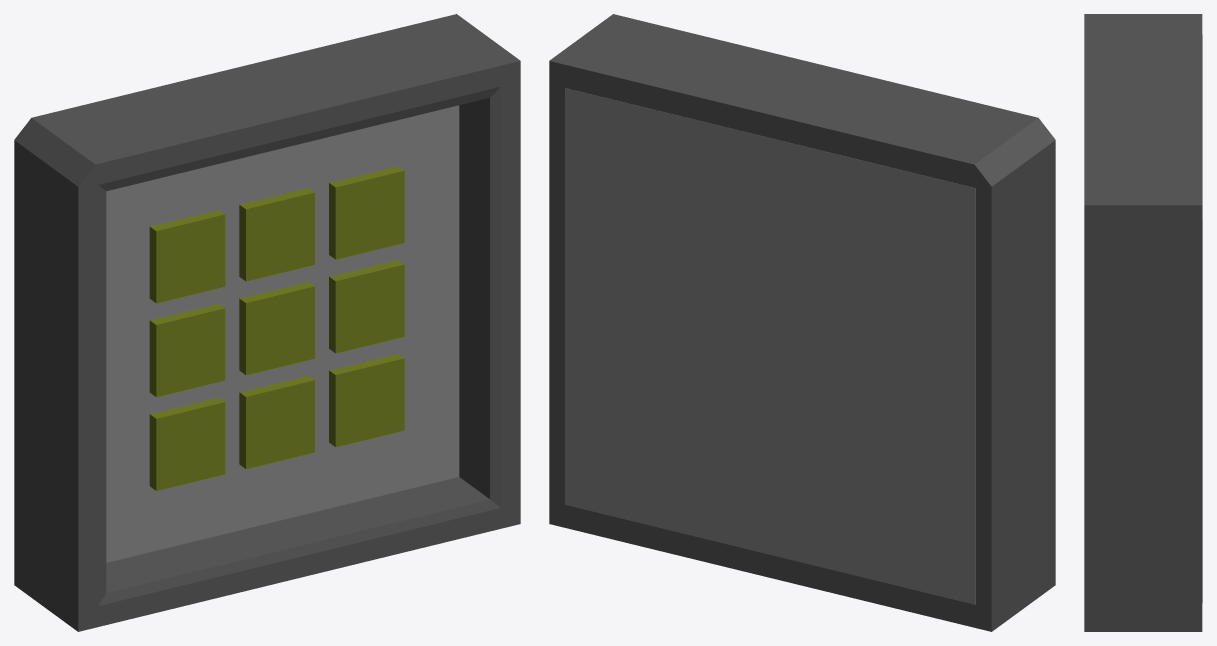
File: buttons_grid.glb
3 renders of one model, left to right at view 1: azimuth 30°, elevation 25°; view 2: azimuth 150°, elevation 25°; view 3: azimuth 270°, elevation 25°, orthographic. The views are drawn at different scales.
Parts seen in each view (by area): view 1: Cube.016, Cube.015, Cube.017; view 2: Cube.015, Cube.016; view 3: Cube.016, Cube.015.
Part boxes in pixels (box(x1,y1,x2,y2)): Cube.016: box(14, 14, 520, 631); Cube.015: box(106, 105, 459, 562); Cube.017: box(149, 166, 404, 490); Cube.015: box(565, 88, 975, 604); Cube.016: box(549, 14, 1055, 631); Cube.016: box(1084, 14, 1202, 631); Cube.015: box(1202, 35, 1202, 602).
Bounding box in the file's own units: 3.99 × 3.99 × 1.
